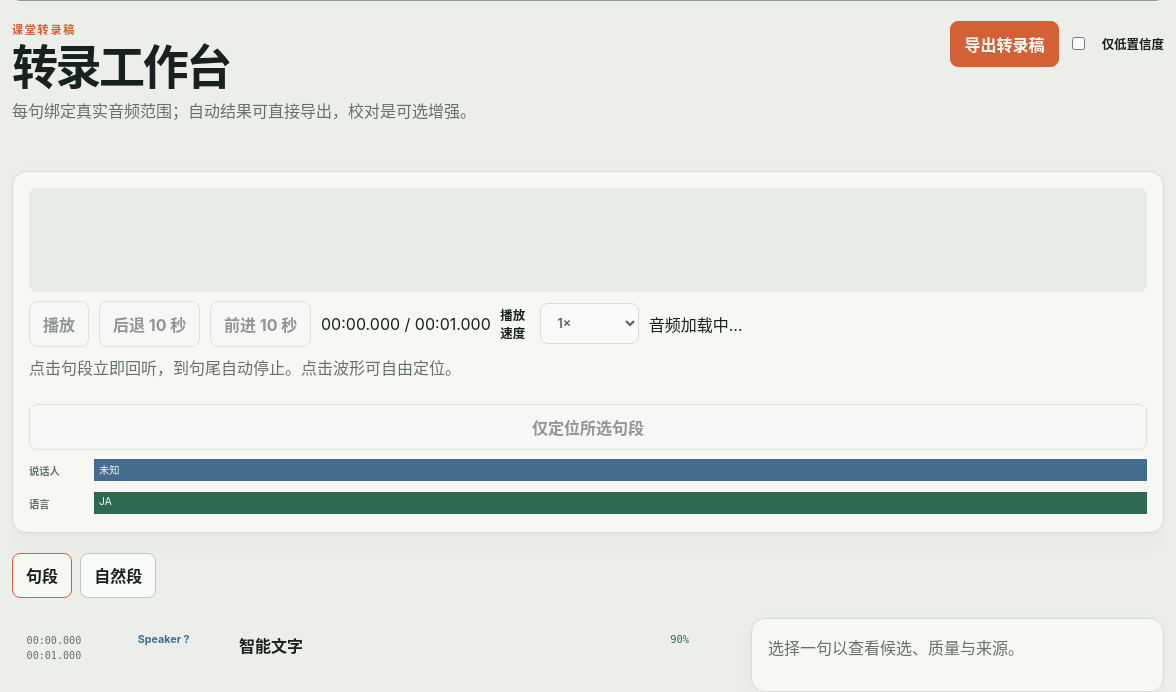
Test: shows MAI transcripts without layer tabs or a local rerun
(page scrolled)
Click the button "00:00.00000:01.000 Speaker ? 智能文字 90%" at [54, 640], box [12,618,735,678]
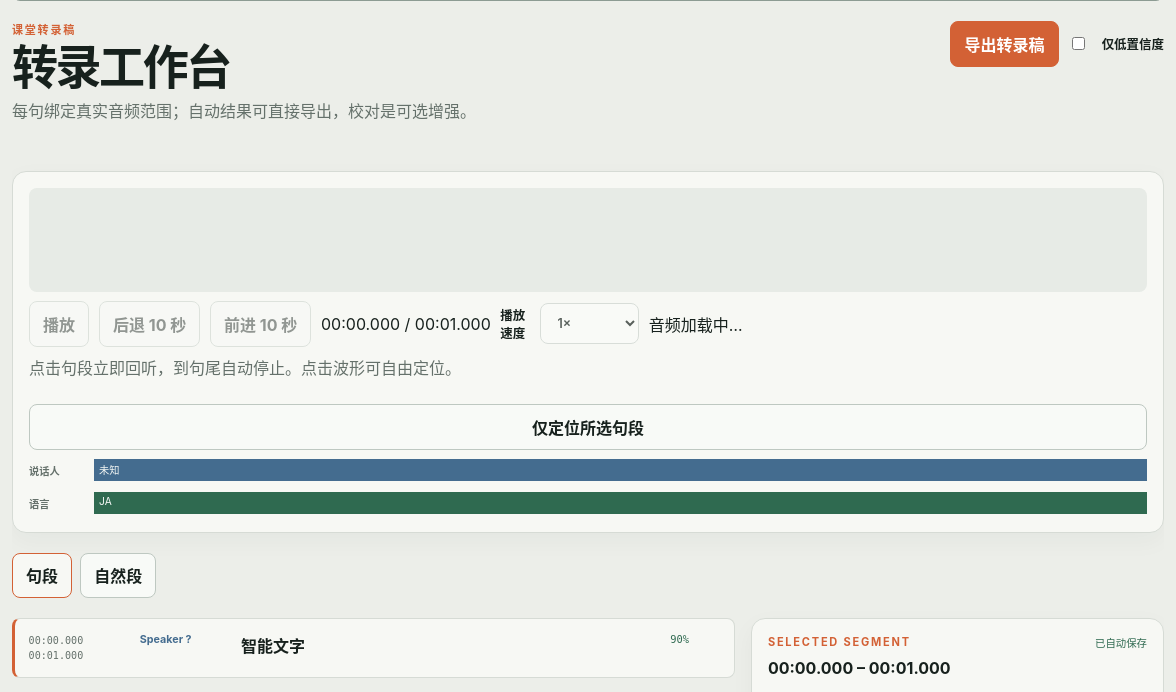
expect the text "Selected segment" is shown: met, box [768,635,911,649]
